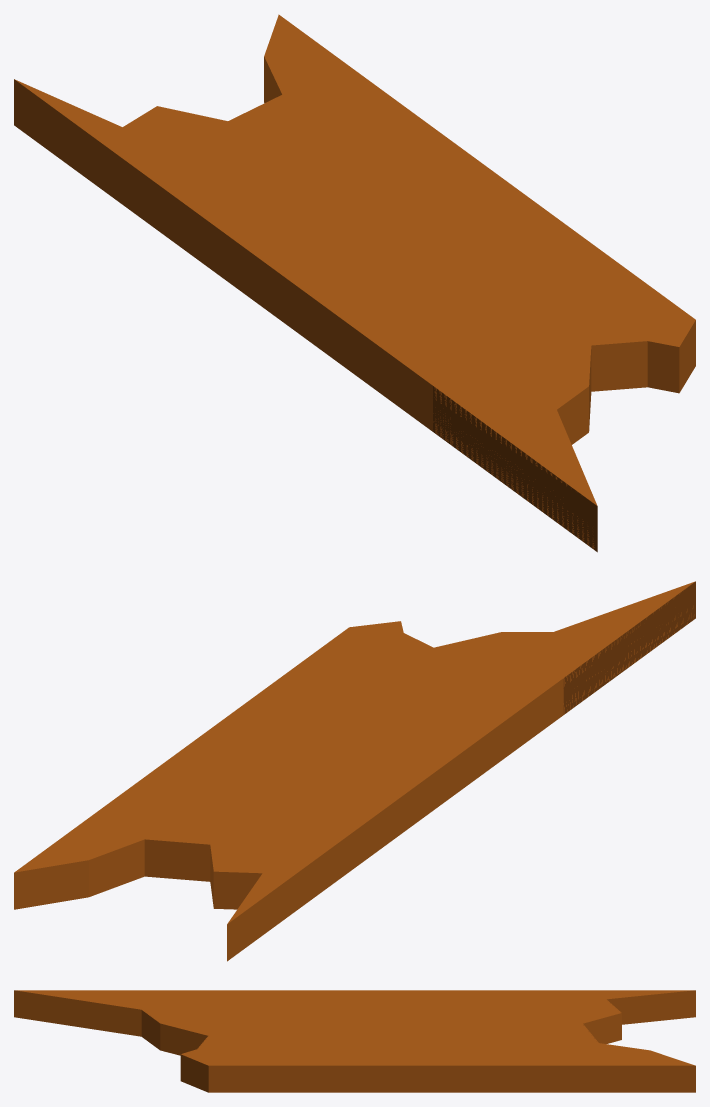
The model's file is Plank 2.fbx.
3 renders of one model, top to bottom at view 1: azimuth 30°, elevation 25°; view 2: azimuth 150°, elevation 25°; view 3: azimuth 270°, elevation 25°, orthographic. The views are drawn at different scales.
Parts seen in each view (by area): view 1: Box004; view 2: Box004; view 3: Box004.
Boxes of the visible parts, box(x1,y1,x2,y2) form: Box004: box(14, 14, 695, 552); Box004: box(14, 581, 695, 961); Box004: box(14, 990, 695, 1092).
Size of the model in its own units: 23.34 by 3.89 by 89.1.
1 material, 1 textured.
